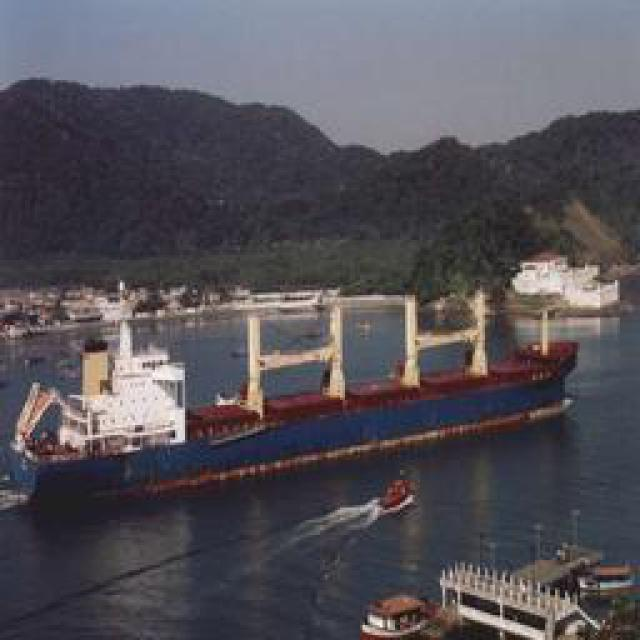Ship: (8, 275, 583, 520), (366, 459, 423, 522)
